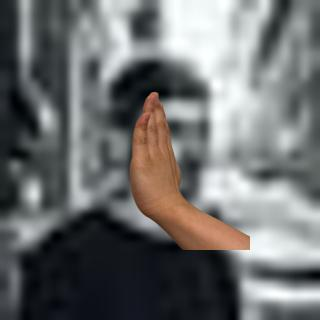RIGHT: (121, 89, 196, 229)
